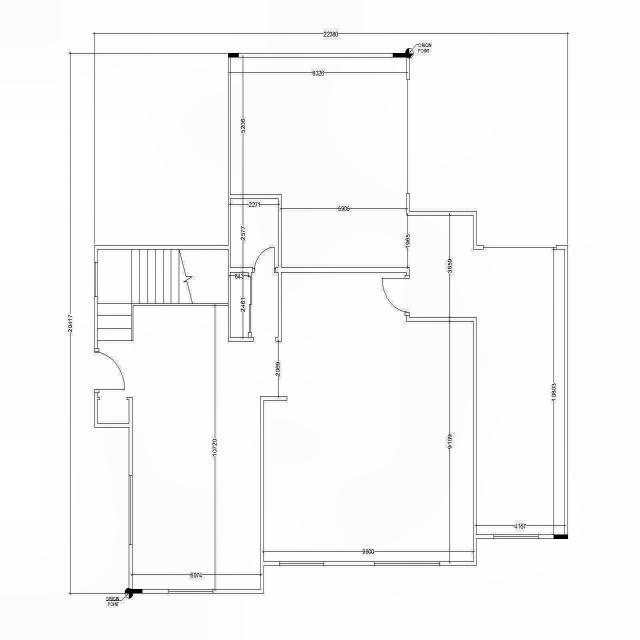Column: (554, 534, 568, 540), (128, 588, 142, 594), (393, 54, 406, 58), (228, 54, 239, 58)
Door: (94, 348, 126, 394), (382, 275, 409, 316), (252, 246, 276, 272)
Sliding Door: (248, 276, 252, 338)
Staircase: (98, 250, 228, 348)
Window: (128, 475, 132, 545), (168, 588, 214, 594), (374, 562, 440, 566), (494, 534, 538, 540), (279, 561, 324, 566), (94, 262, 98, 297)
